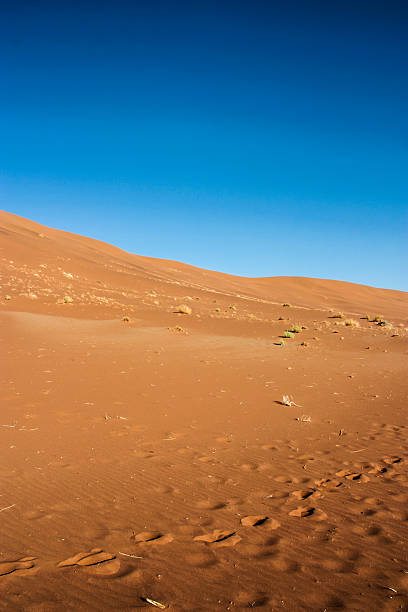human_foot_print: (190, 465, 360, 572), (272, 461, 372, 520), (291, 456, 402, 500), (314, 457, 401, 493), (57, 548, 128, 577), (239, 524, 281, 560), (57, 548, 115, 566), (83, 557, 132, 577), (193, 529, 241, 545), (0, 556, 35, 575), (234, 590, 268, 608), (240, 515, 280, 530), (186, 549, 217, 567), (130, 531, 172, 544), (194, 529, 235, 542), (289, 506, 327, 520), (213, 533, 241, 548), (336, 468, 368, 481), (131, 531, 162, 542), (196, 499, 227, 510), (291, 488, 320, 499), (240, 515, 267, 526), (289, 506, 315, 517), (315, 478, 342, 488)
